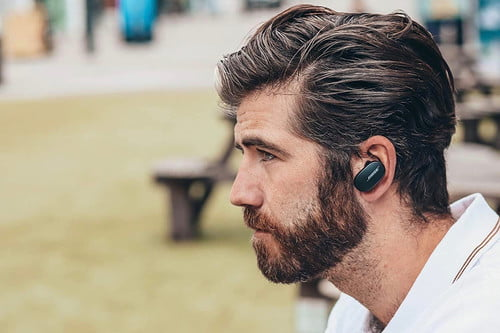earphone: (352, 135, 396, 202)
